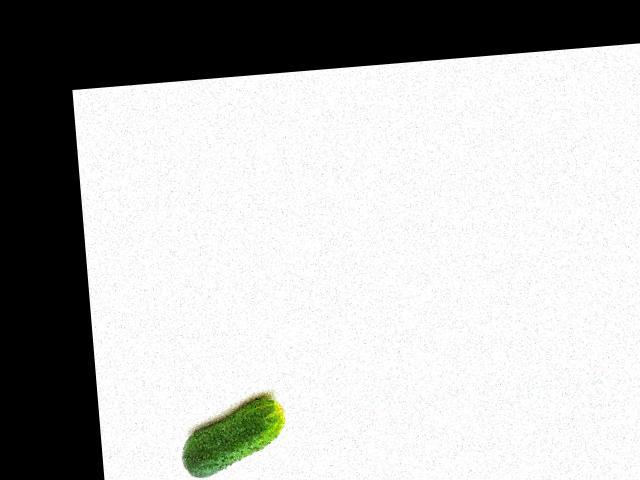cucumber: (178, 395, 289, 479)
